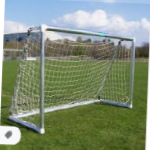goals: (9, 22, 135, 137)
